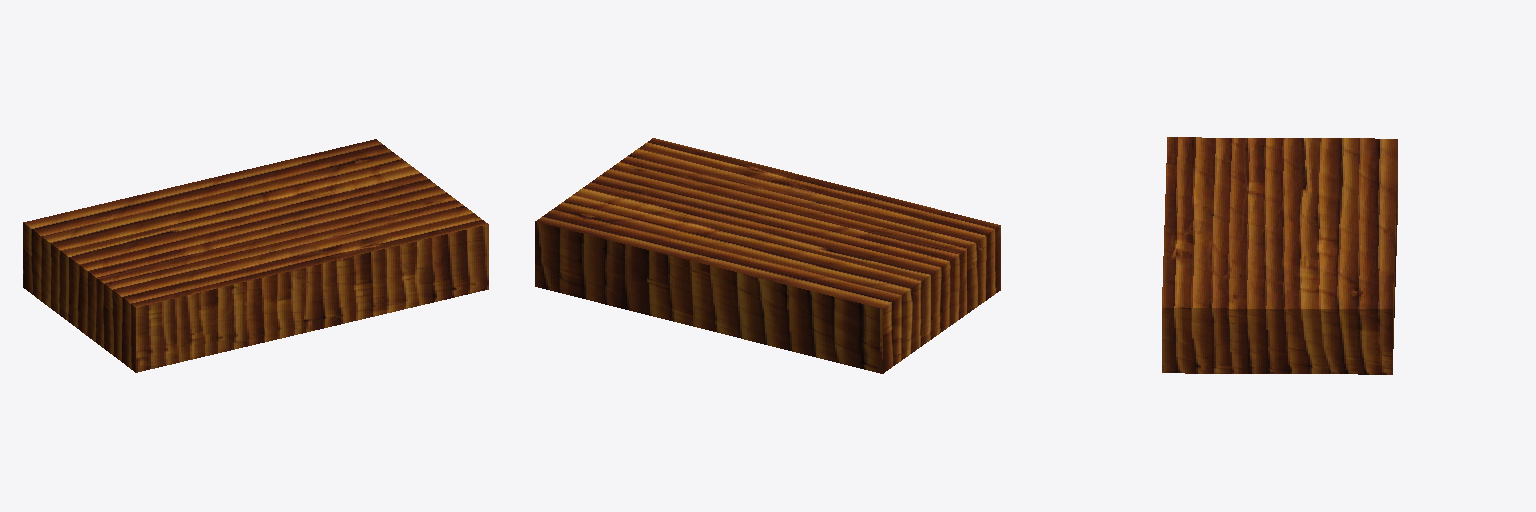
3 views of the same model, side by side, from view 1: azimuth 30°, elevation 25°; view 2: azimuth 150°, elevation 25°; view 3: azimuth 270°, elevation 25° (orthographic).
Parts seen in each view (by area): view 1: polySurface30 polySurface26; view 2: polySurface30 polySurface26; view 3: polySurface30 polySurface26.
Boxes of the visible parts, box(x1,y1,x2,y2) form: polySurface30 polySurface26: box(23, 139, 488, 372); polySurface30 polySurface26: box(535, 138, 1000, 373); polySurface30 polySurface26: box(1162, 137, 1397, 374).
Size of the model in its own units: 24.14 by 4.27 by 14.01.
1 materials, 1 textured.